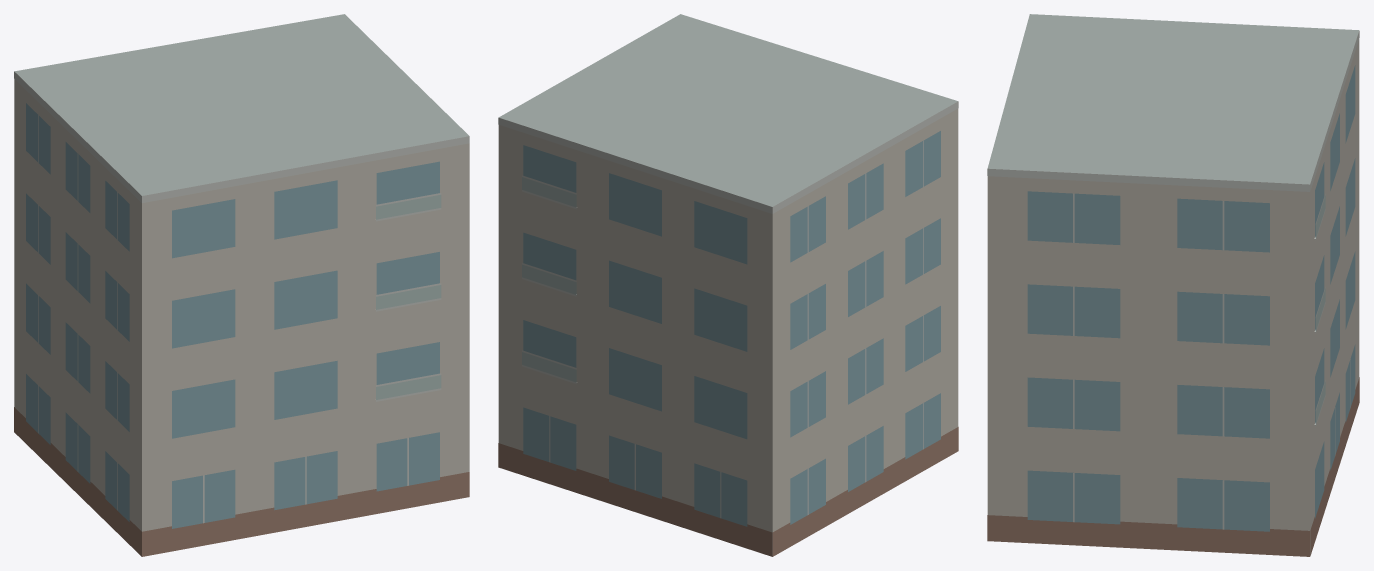
File: survey-upis-32908630.glb
3 views of the same model, side by side, from view 1: azimuth 30°, elevation 25°; view 2: azimuth 150°, elevation 25°; view 3: azimuth 270°, elevation 25° (orthographic). The views are drawn at different scales.
Parts seen in each view (by area): view 1: survey-upis-32908630.tmp; view 2: survey-upis-32908630.tmp; view 3: survey-upis-32908630.tmp.
Boxes of the visible parts, x1,y1,x2,y2 form: survey-upis-32908630.tmp: (14,14,469,556); survey-upis-32908630.tmp: (498,14,958,556); survey-upis-32908630.tmp: (987,14,1359,556).
Bounding box in the file's own units: 11.99 × 12.2 × 11.06.
